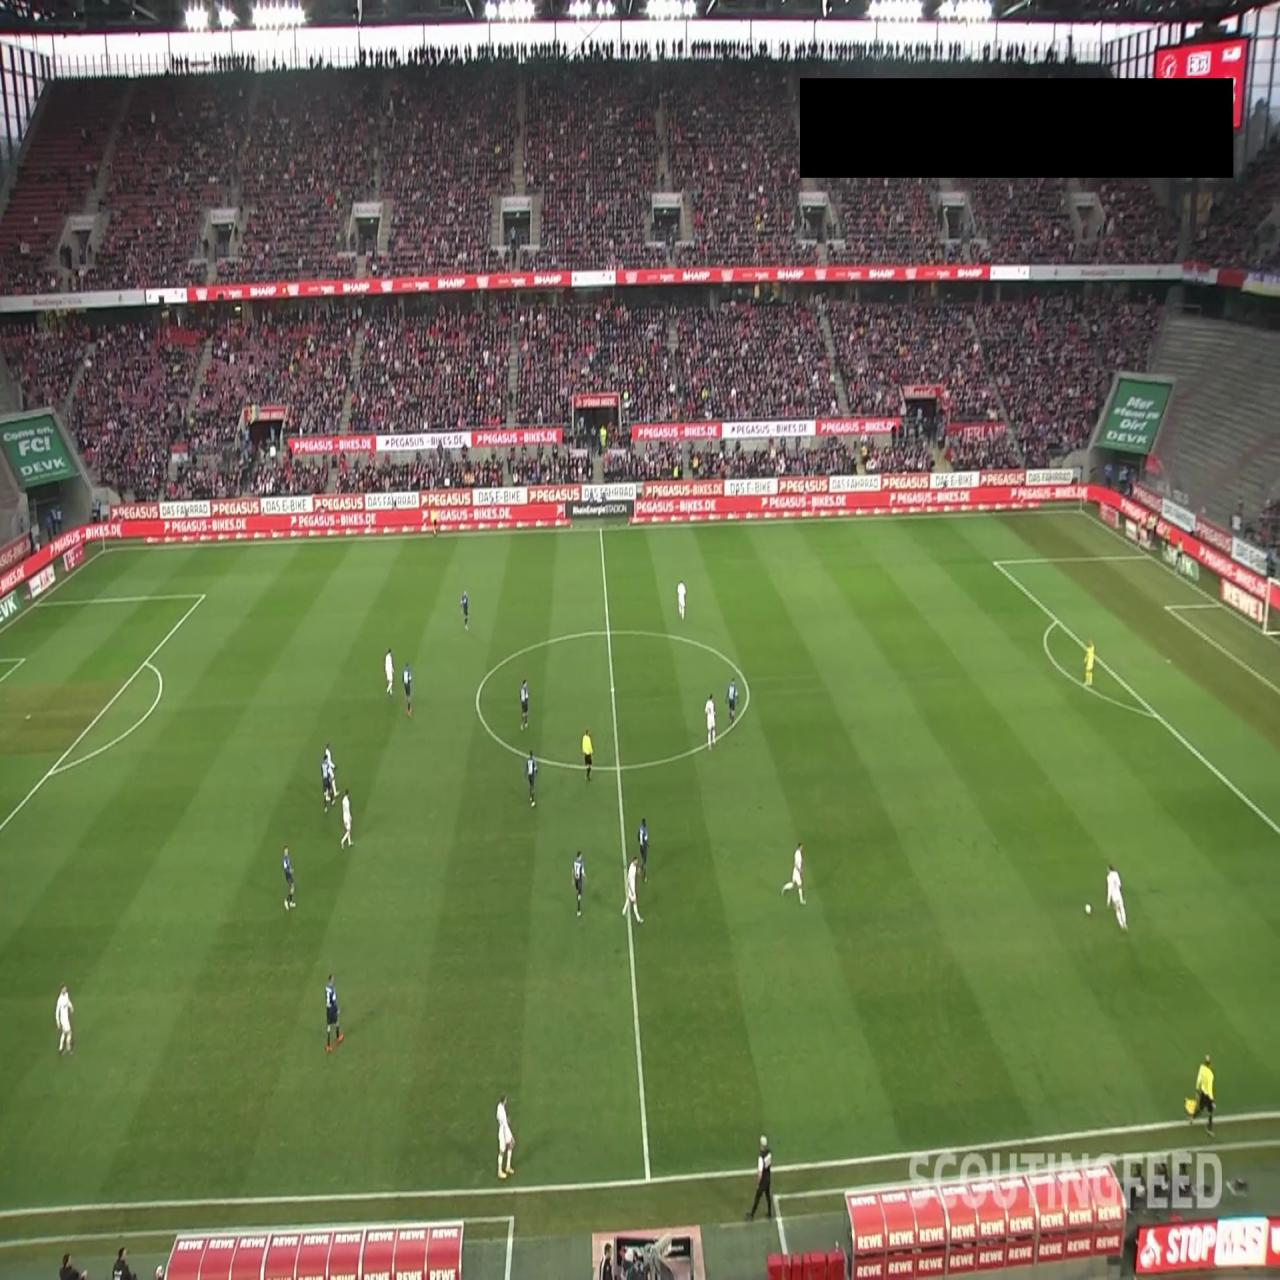ball: (1084, 903, 1092, 916)
goalkeeper: (1083, 638, 1095, 688)
player: (780, 841, 806, 906), (1106, 862, 1130, 932), (496, 1093, 515, 1178), (622, 854, 644, 924), (325, 972, 343, 1054), (56, 984, 75, 1055), (572, 849, 586, 917), (282, 845, 296, 910), (325, 741, 340, 799), (321, 755, 335, 814), (637, 817, 649, 883), (525, 748, 538, 806), (341, 788, 353, 849), (726, 678, 739, 728), (705, 692, 716, 749), (402, 662, 413, 718), (520, 678, 530, 731), (384, 647, 394, 697), (676, 579, 686, 620), (460, 590, 469, 631)
referee: (1184, 1054, 1216, 1136), (582, 727, 594, 782), (432, 506, 439, 540)
